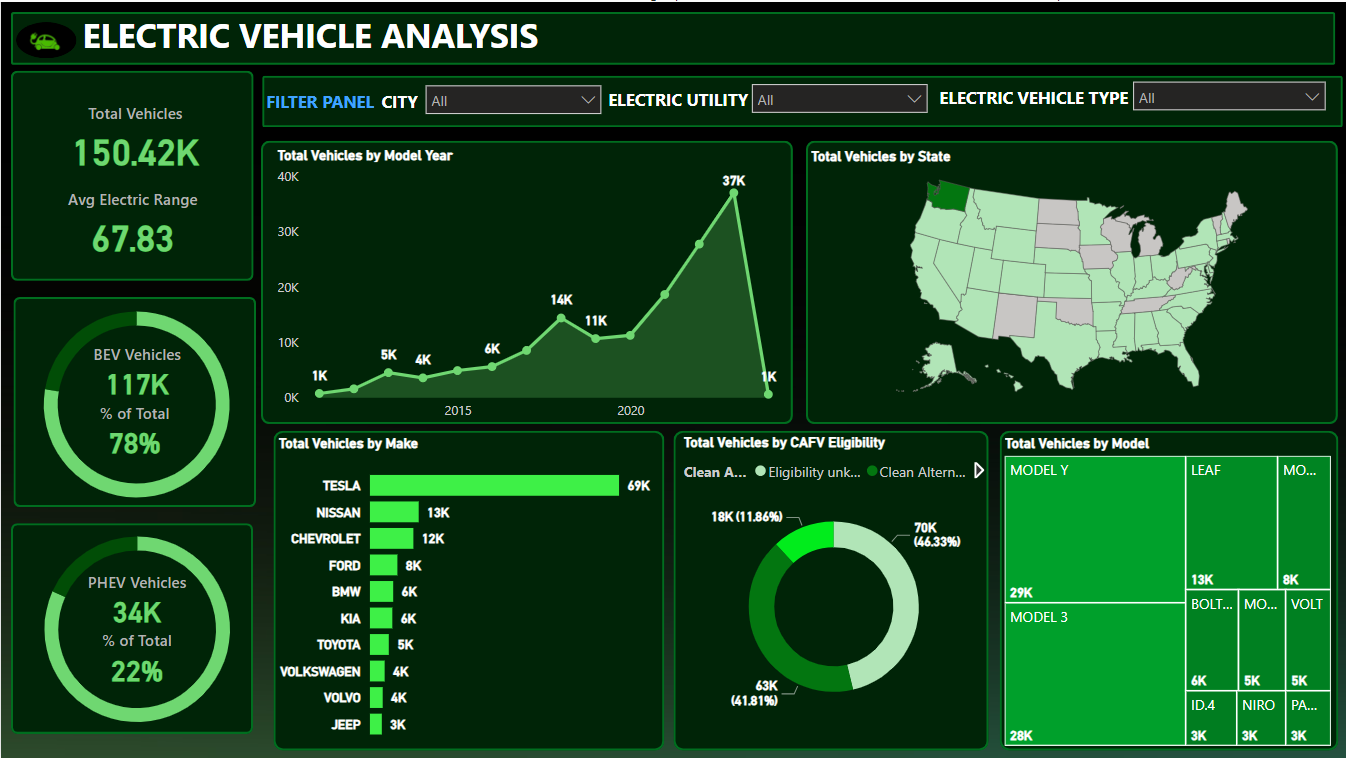

Layout of this report page (visuals, bound fields, positions):
{"tool":"powerbi","page":{"name":"Page 1","canvas":[1280,720],"ordinal":0},"visuals":[{"type":"shape","box":[9.6,9.6,1260.8,50.3],"z":0},{"type":"textbox","box":[72.1,4.3,486.2,63.5],"z":1000},{"type":"shape","box":[9.5,65.5,230.9,199.9],"z":2000},{"type":"shape","box":[11.9,280.9,230.9,199.9],"z":3000},{"type":"shape","box":[10,496.4,230.4,200.5],"z":4000},{"type":"card","title":"Total Vehicles","fields":{"Values":["Electric_Vehicle_Population_Data.Total Vehicles"]},"box":[44,95.2,167.8,70.2],"z":5000},{"type":"donutChart","fields":{"Y":["Electric_Vehicle_Population_Data.Total Vehicles"],"Category":["Electric_Vehicle_Population_Data.Electric Vehicle Type (groups)"]},"box":[0,267.3,258.9,231.3],"z":6000},{"type":"card","title":"Avg Electric Range","fields":{"Values":["Avg(Electric_Vehicle_Population_Data.Electric Range)"]},"box":[41.7,177.3,167.8,70.2],"z":7000},{"type":"card","title":"BEV Vehicles","fields":{"Values":["Electric_Vehicle_Population_Data.BEV Vehicles"]},"box":[72.6,324.9,114.2,55.9],"z":8000},{"type":"card","title":"% of Total","fields":{"Values":["Electric_Vehicle_Population_Data.% of BEV Vehicle"]},"box":[70.2,380.8,114.2,55.9],"z":9000},{"type":"donutChart","fields":{"Y":["Electric_Vehicle_Population_Data.Total Vehicles","Electric_Vehicle_Population_Data.PHEV Vehicle"]},"box":[0,481.9,259.7,230.8],"z":10000},{"type":"card","title":"PHEV Vehicles","fields":{"Values":["Electric_Vehicle_Population_Data.PHEV Vehicle"]},"box":[72.1,541,114,56.3],"z":11000},{"type":"card","title":"% of Total","fields":{"Values":["Electric_Vehicle_Population_Data.% of PHEV Vehicle"]},"box":[72.1,597.3,114,56.3],"z":12000},{"type":"shape","box":[248.1,131.8,506.4,269.8],"z":14000},{"type":"areaChart","fields":{"Y":["Electric_Vehicle_Population_Data.Total Vehicles"],"Category":["Electric_Vehicle_Population_Data.Model Year"]},"box":[258.3,138.5,490.5,269.8],"z":15000},{"type":"shape","box":[766.1,131.8,506.4,269.8],"z":16000},{"type":"shapeMap","fields":{"Category":["Electric_Vehicle_Population_Data.State"],"Value":["Electric_Vehicle_Population_Data.Total Vehicles"]},"box":[765.8,139.5,507,248.1],"z":17000},{"type":"shape","box":[259.7,408.3,372.2,304.4],"z":18000},{"type":"barChart","fields":{"Category":["Electric_Vehicle_Population_Data.Make"],"Y":["Electric_Vehicle_Population_Data.Total Vehicles"]},"box":[259.7,412.6,372.2,300.1],"z":19000},{"type":"shape","box":[640.6,408.3,300.1,304.4],"z":20000},{"type":"donutChart","title":"Total Vehicles by CAFV Eligibility","fields":{"Category":["Electric_Vehicle_Population_Data.Clean Alternative Fuel Vehicle (CAFV) Eligibility"],"Y":["Electric_Vehicle_Population_Data.Total Vehicles"]},"box":[644.8,412.3,296,284],"z":21000},{"type":"shape","box":[950.4,408.7,322.4,304.4],"z":22000},{"type":"treemap","fields":{"Group":["Electric_Vehicle_Population_Data.Model"],"Values":["Electric_Vehicle_Population_Data.Total Vehicles"]},"box":[950.8,412.6,320.3,300.1],"z":23000},{"type":"shape","box":[248.2,70.7,1028.7,49.1],"z":23001},{"type":"textbox","box":[248,78,131,33],"z":23002},{"type":"slicer","fields":{"Values":["Electric_Vehicle_Population_Data.City"]},"box":[394.5,69.3,187.6,49.1],"z":23003},{"type":"textbox","box":[326.6,78.2,106.8,31.7],"z":23004},{"type":"slicer","fields":{"Values":["Electric_Vehicle_Population_Data.Electric Utility"]},"box":[704.1,67.8,187.6,49.1],"z":23005},{"type":"textbox","box":[565,76.5,158.7,43.3],"z":23006},{"type":"slicer","fields":{"Values":["Electric_Vehicle_Population_Data.Electric Vehicle Type"]},"box":[1067.6,64.9,203.4,49.1],"z":23007},{"type":"textbox","box":[883,75,200.5,37.5],"z":23008},{"type":"shape","box":[14.4,18.8,57.7,34.6],"z":23009},{"type":"image","box":[18.8,17.3,44.7,36.1],"z":23010}]}

Visuals, with their boxes in screenshot pixels (x1, y1, x2, y2), scaled from the page's 1280x720 canvas onto the 1346x758 screenshot:
shape: (left=10, top=10, right=1336, bottom=63)
textbox: (left=76, top=5, right=587, bottom=71)
shape: (left=10, top=69, right=253, bottom=279)
shape: (left=13, top=296, right=255, bottom=506)
shape: (left=11, top=523, right=253, bottom=734)
"Total Vehicles" card: (left=46, top=100, right=223, bottom=174)
donutChart - Electric_Vehicle_Population_Data.Total Vehicles x Electric_Vehicle_Population_Data.Electric Vehicle Type (groups): (left=0, top=281, right=272, bottom=525)
"Avg Electric Range" card: (left=44, top=187, right=220, bottom=261)
"BEV Vehicles" card: (left=76, top=342, right=196, bottom=401)
"% of Total" card: (left=74, top=401, right=194, bottom=460)
donutChart - Electric_Vehicle_Population_Data.Total Vehicles x Electric_Vehicle_Population_Data.PHEV Vehicle: (left=0, top=507, right=273, bottom=750)
"PHEV Vehicles" card: (left=76, top=570, right=196, bottom=629)
"% of Total" card: (left=76, top=629, right=196, bottom=688)
shape: (left=261, top=139, right=793, bottom=423)
areaChart - Electric_Vehicle_Population_Data.Total Vehicles x Electric_Vehicle_Population_Data.Model Year: (left=272, top=146, right=787, bottom=430)
shape: (left=806, top=139, right=1338, bottom=423)
shapeMap - Electric_Vehicle_Population_Data.State x Electric_Vehicle_Population_Data.Total Vehicles: (left=805, top=147, right=1338, bottom=408)
shape: (left=273, top=430, right=664, bottom=750)
barChart - Electric_Vehicle_Population_Data.Make x Electric_Vehicle_Population_Data.Total Vehicles: (left=273, top=434, right=664, bottom=750)
shape: (left=674, top=430, right=989, bottom=750)
"Total Vehicles by CAFV Eligibility" donutChart: (left=678, top=434, right=989, bottom=733)
shape: (left=999, top=430, right=1338, bottom=751)
treemap - Electric_Vehicle_Population_Data.Model x Electric_Vehicle_Population_Data.Total Vehicles: (left=1000, top=434, right=1337, bottom=750)
shape: (left=261, top=74, right=1343, bottom=126)
textbox: (left=261, top=82, right=399, bottom=117)
slicer - Electric_Vehicle_Population_Data.City: (left=415, top=73, right=612, bottom=125)
textbox: (left=343, top=82, right=456, bottom=116)
slicer - Electric_Vehicle_Population_Data.Electric Utility: (left=740, top=71, right=938, bottom=123)
textbox: (left=594, top=81, right=761, bottom=126)
slicer - Electric_Vehicle_Population_Data.Electric Vehicle Type: (left=1123, top=68, right=1337, bottom=120)
textbox: (left=929, top=79, right=1139, bottom=118)
shape: (left=15, top=20, right=76, bottom=56)
image: (left=20, top=18, right=67, bottom=56)
